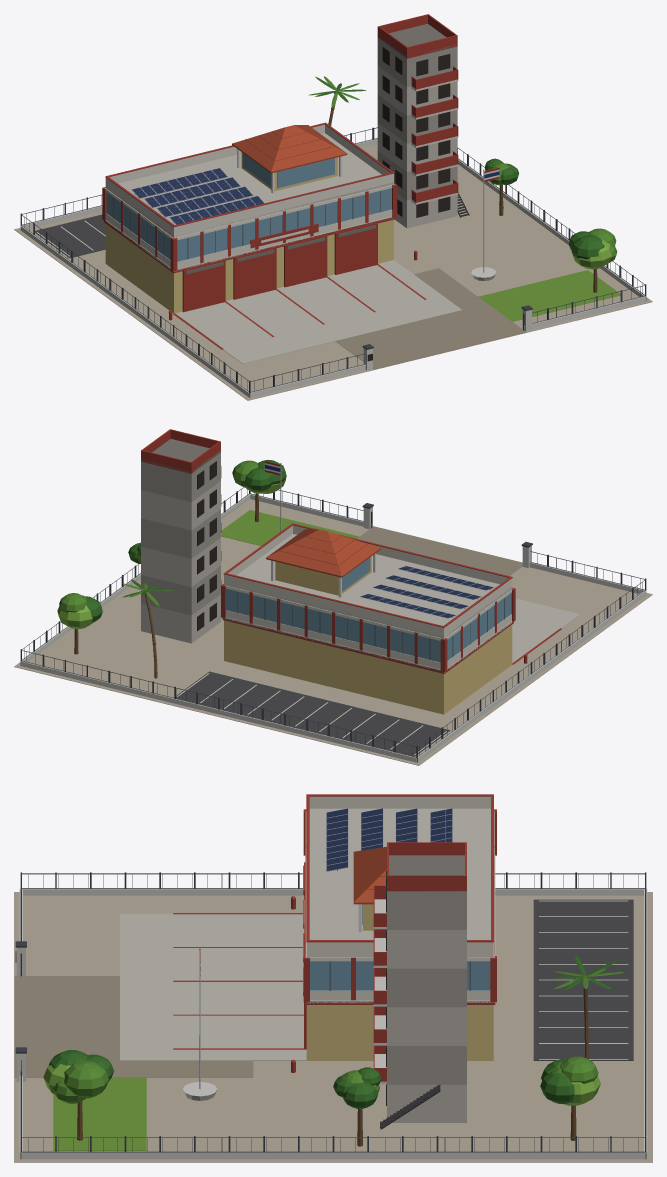
File: fire.glb
3 views of the same model, one above another, from view 1: azimuth 30°, elevation 25°; view 2: azimuth 150°, elevation 25°; view 3: azimuth 270°, elevation 25° (orthographic). The views are drawn at different scales.
Parts seen in each view (by area): view 1: body, windows; view 2: body, windows; view 3: body.
Boxes of the visible parts, left/top/right/bottom form: body: left=14, top=14, right=652, bottom=400; windows: left=382, top=47, right=450, bottom=217; body: left=14, top=429, right=652, bottom=765; windows: left=197, top=461, right=216, bottom=630; body: left=14, top=794, right=652, bottom=1162.
Size of the model in its own units: 47.9 by 20.5 by 47.9.
